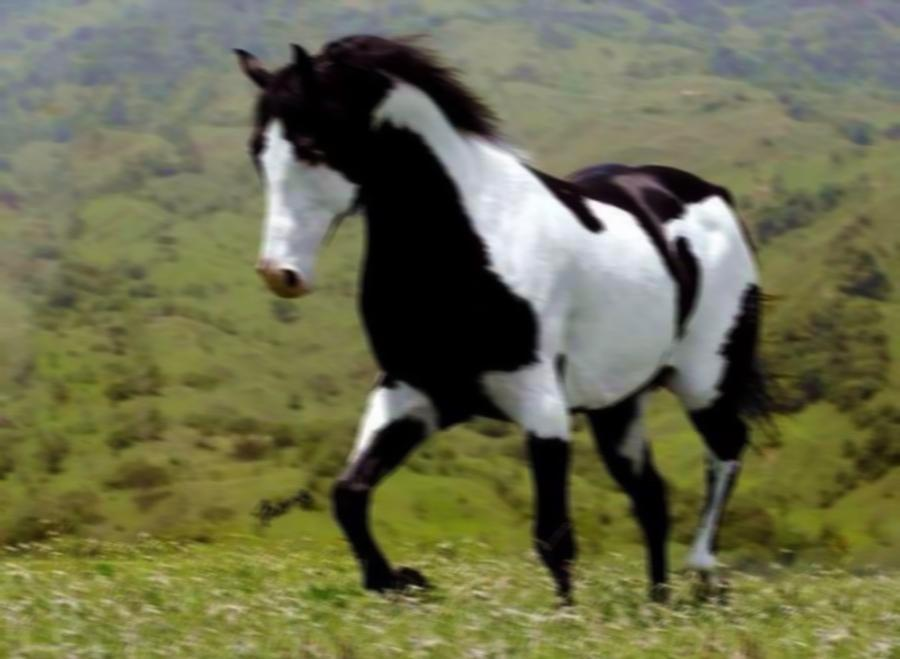horse: (225, 25, 798, 616)
